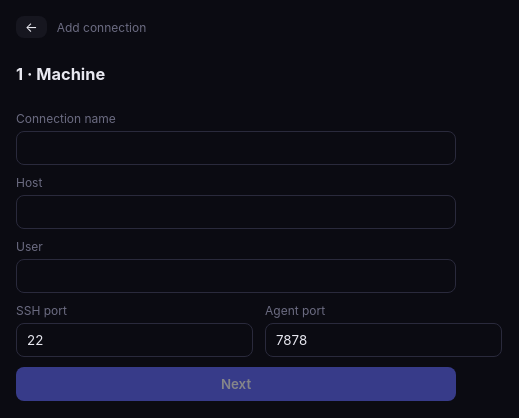
Scenario: SetupWizard Steps 1-3 › Step 2 generates the key and shows the ssh-copy-id command
Type "Studio Mini" into the field labelled "Connection name". click: x=236, y=148
box: [16,131,456,165]
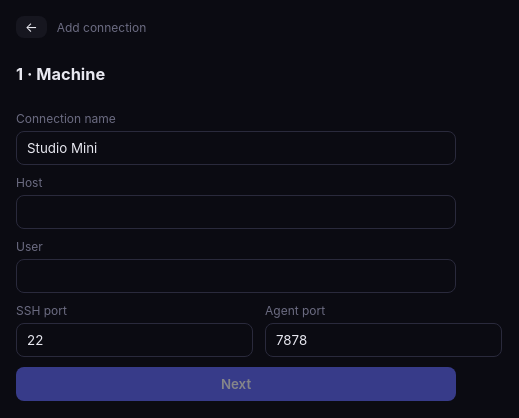
Type "studio-mini" into the field labelled "Host". click: x=236, y=212
box: [16,195,456,229]
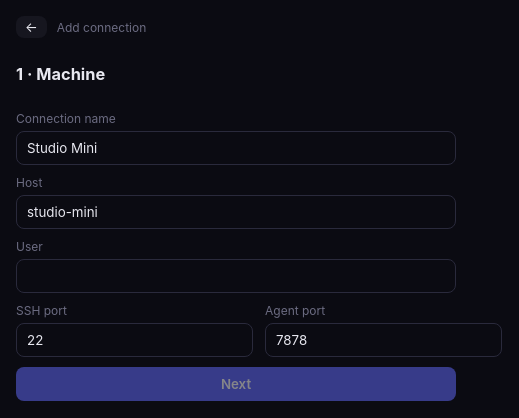
Type "rebin" into the field labelled "User". click: x=236, y=276
box: [16,259,456,293]
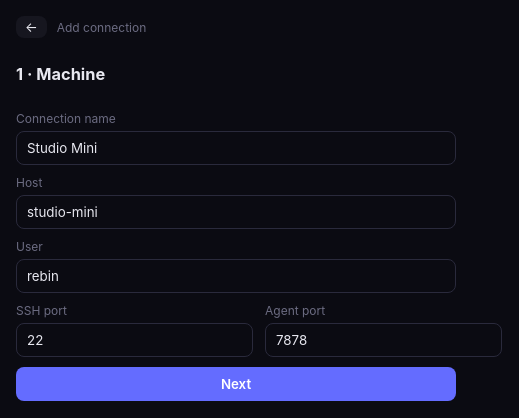
Click the button with test id "wiz-next". click: x=236, y=384
box: [16,367,456,401]
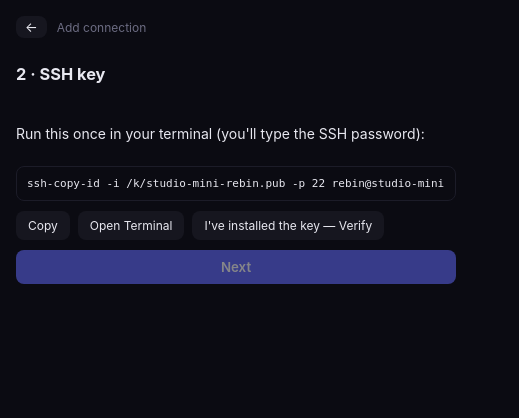
Now the text with test id "copy-command" shows "ssh-copy-id -i /k/studio-mini-rebin.pub", box [27,177,444,190]
